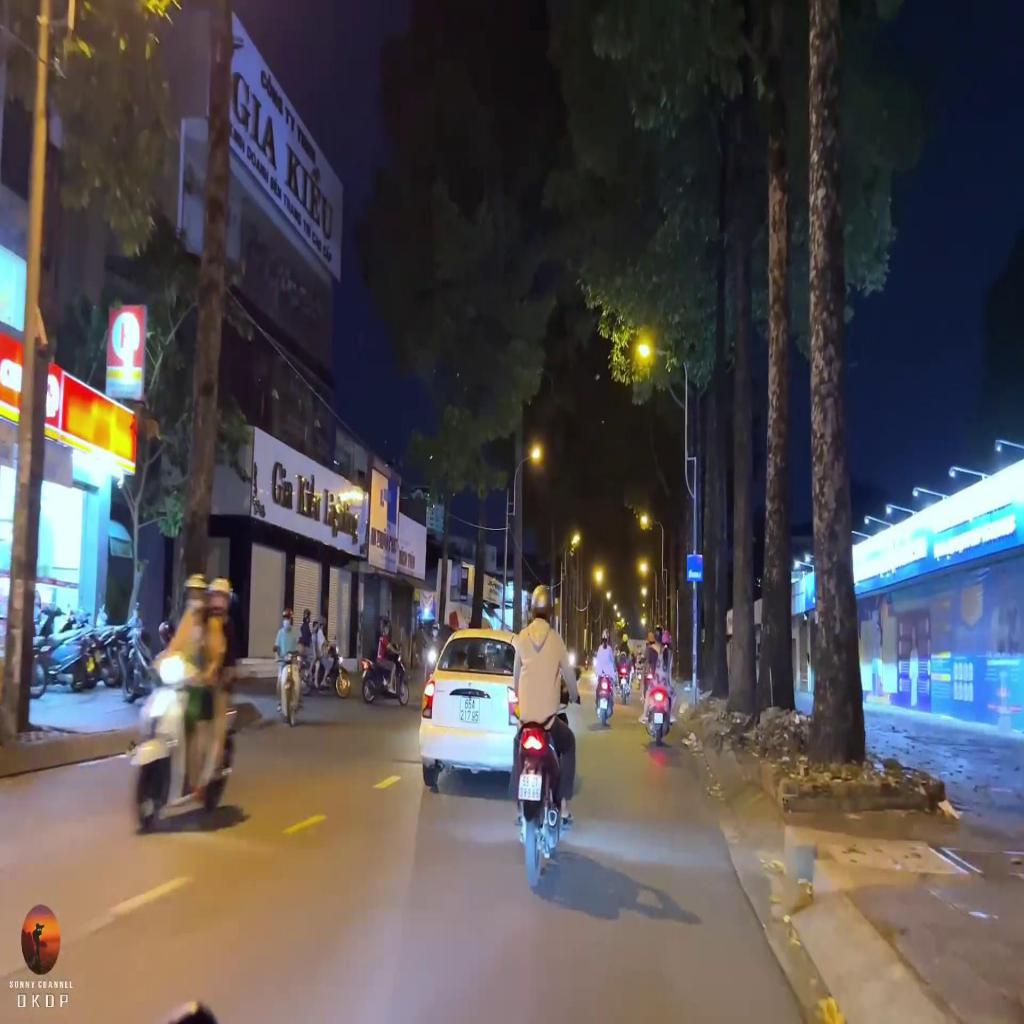khac: (687, 555, 702, 580)
